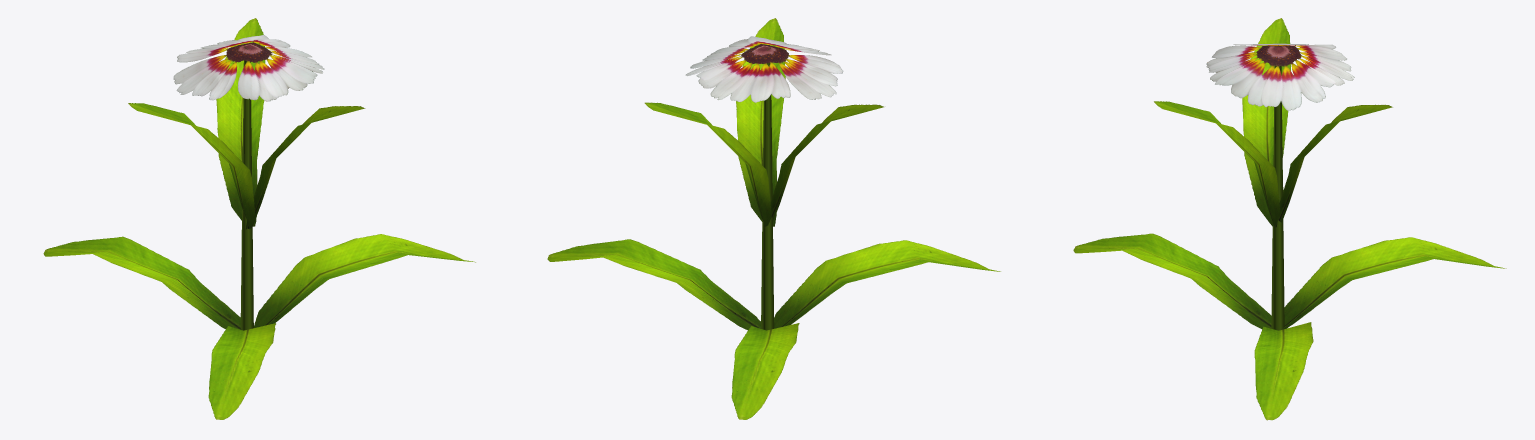
File: flower plant10.FBX
The picture shows the model from 3 angles, left to right: view 1: azimuth 30°, elevation 25°; view 2: azimuth 150°, elevation 25°; view 3: azimuth 270°, elevation 25°; orthographic projection.
Visible parts, largest first — view 1: Cylinder001; view 2: Cylinder001; view 3: Cylinder001.
Part boxes in pixels (x1=…): Cylinder001: x1=43, y1=18, x2=475, y2=419; Cylinder001: x1=547, y1=18, x2=1000, y2=419; Cylinder001: x1=1073, y1=18, x2=1506, y2=420.
Bounding box in the file's own units: 4.39 × 3.3 × 4.78.
